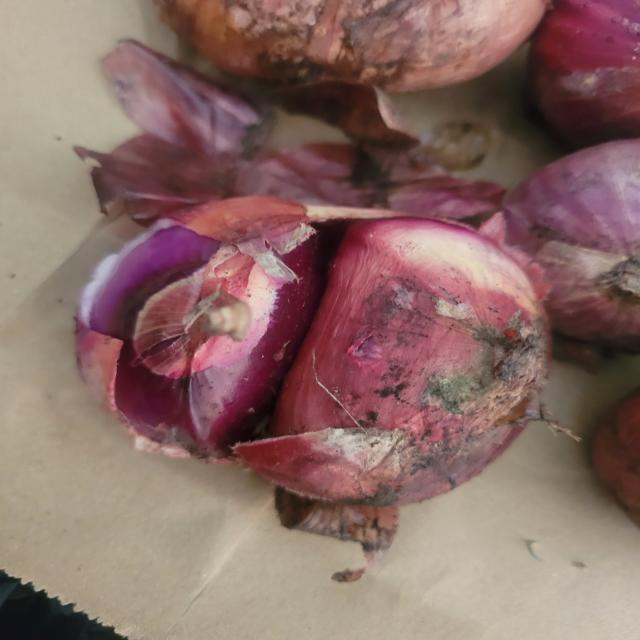mechanical_damage: (72, 152, 569, 540)
